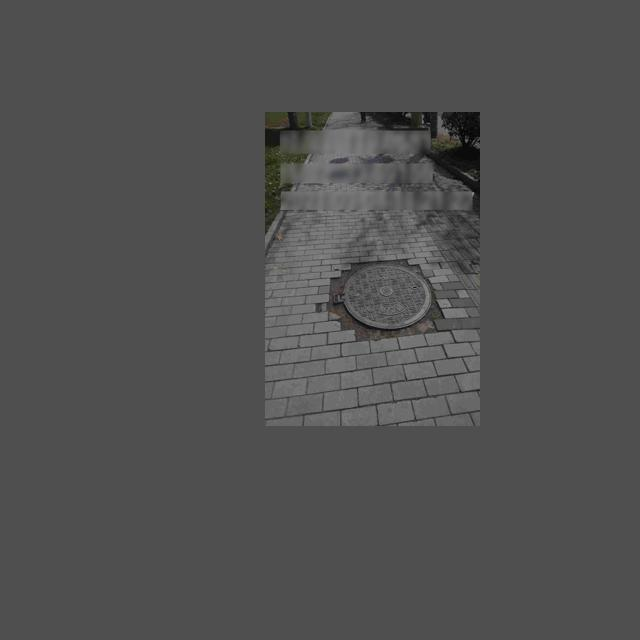good: (331, 263, 430, 329)
